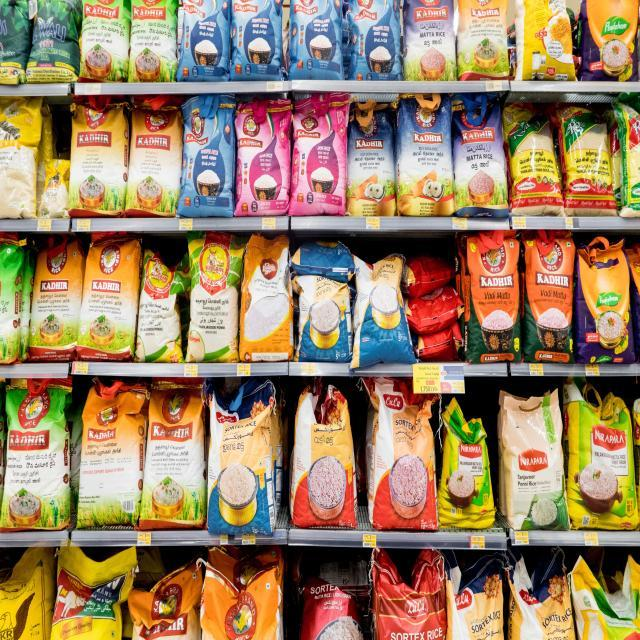Imprecise: (402, 230, 463, 363)
